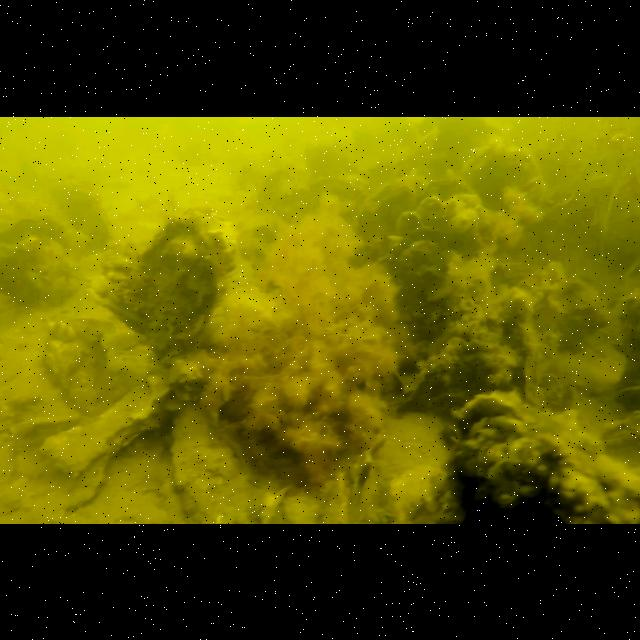Oyster-Closed: (146, 206, 238, 368), (488, 426, 640, 524), (39, 371, 172, 479), (169, 402, 261, 524), (461, 135, 547, 251), (360, 168, 482, 244), (40, 318, 109, 416), (89, 238, 149, 336), (396, 194, 484, 256), (48, 180, 114, 244)
Oyster-Open: (453, 385, 533, 523), (390, 224, 454, 342), (0, 213, 82, 305), (236, 222, 284, 294)
